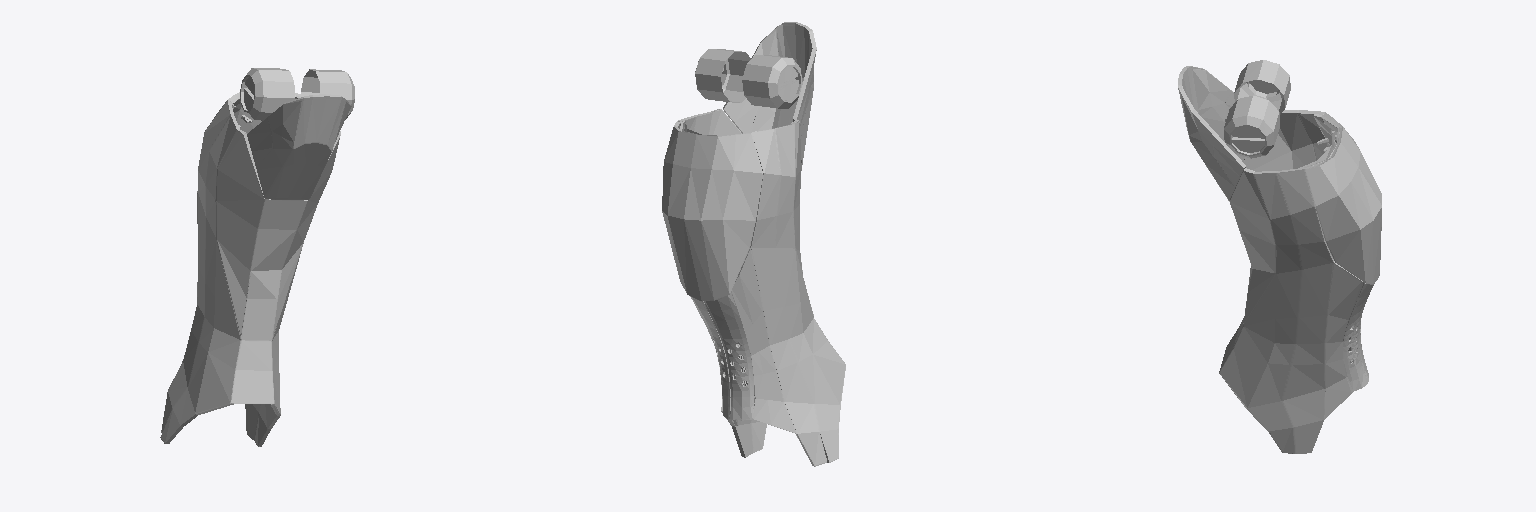
File: irightlegd2.obj
The picture shows the model from 3 angles: view 1: azimuth 30°, elevation 25°; view 2: azimuth 150°, elevation 25°; view 3: azimuth 270°, elevation 25°; orthographic projection.
Visible parts, largest first — view 1: HD_Ironman:polySurface2610_polySurface3592; view 2: HD_Ironman:polySurface2610_polySurface3592; view 3: HD_Ironman:polySurface2610_polySurface3592.
Part boxes in pixels (left/top/right/bottom): HD_Ironman:polySurface2610_polySurface3592: left=160, top=68, right=354, bottom=446; HD_Ironman:polySurface2610_polySurface3592: left=662, top=22, right=845, bottom=466; HD_Ironman:polySurface2610_polySurface3592: left=1178, top=60, right=1381, bottom=453.
Bounding box in the file's own units: 2.91 × 6.63 × 3.18.